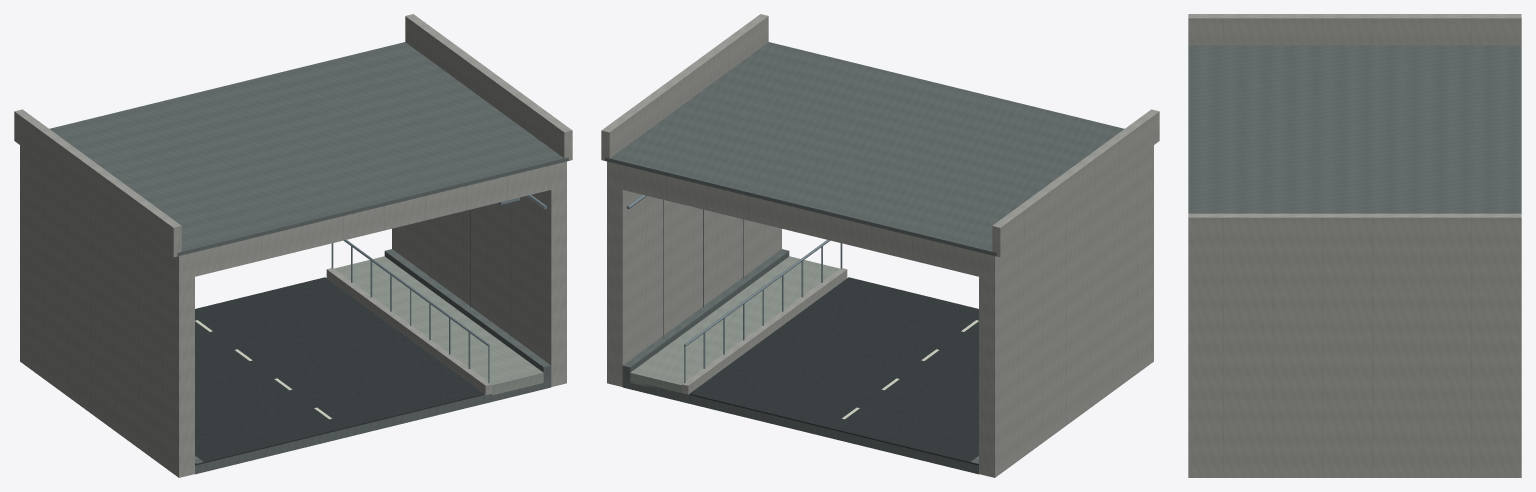
3 views of the same model, side by side, from view 1: azimuth 30°, elevation 25°; view 2: azimuth 150°, elevation 25°; view 3: azimuth 270°, elevation 25° (orthographic). The views are drawn at different scales.
Parts seen in each view (by area): view 1: VIS_Roof_Waterproof_Cap, VIS_Left_Loadbearing_Wall, VIS_Continuous_Asphalt, VIS_Right_Loadbearing_Wall, VIS_Roof_Transfer_Slab, VIS_Deck_Edge_Parapets, VIS_Maintenance_Footway, VIS_Structural_Roadbed, VIS_Footway_Kerb, VIS_Wall_Base_Upstand, VIS_Footway_Guard_Posts; view 2: VIS_Roof_Waterproof_Cap, VIS_Left_Loadbearing_Wall, VIS_Continuous_Asphalt, VIS_Right_Loadbearing_Wall, VIS_Roof_Transfer_Slab, VIS_Deck_Edge_Parapets, VIS_Maintenance_Footway, VIS_Structural_Roadbed, VIS_Footway_Kerb, VIS_Wall_Base_Upstand, VIS_Footway_Guard_Posts; view 3: VIS_Right_Loadbearing_Wall, VIS_Roof_Waterproof_Cap, VIS_Deck_Edge_Parapets, VIS_Roof_Transfer_Slab.
Part boxes in pixels (<box>): VIS_Roof_Waterproof_Cap: <box>49,42,568,256</box>; VIS_Left_Loadbearing_Wall: <box>20,164,194,477</box>; VIS_Continuous_Asphalt: <box>195,277,484,465</box>; VIS_Right_Loadbearing_Wall: <box>392,186,566,386</box>; VIS_Roof_Transfer_Slab: <box>20,145,566,280</box>; VIS_Deck_Edge_Parapets: <box>14,14,572,257</box>; VIS_Maintenance_Footway: <box>334,256,543,395</box>; VIS_Structural_Roadbed: <box>195,379,551,474</box>; VIS_Footway_Kerb: <box>326,268,491,394</box>; VIS_Wall_Base_Upstand: <box>384,249,551,380</box>; VIS_Footway_Guard_Posts: <box>331,243,489,383</box>; VIS_Roof_Waterproof_Cap: <box>605,42,1124,256</box>; VIS_Left_Loadbearing_Wall: <box>979,164,1153,477</box>; VIS_Continuous_Asphalt: <box>689,277,978,465</box>; VIS_Right_Loadbearing_Wall: <box>607,186,781,386</box>; VIS_Roof_Transfer_Slab: <box>607,145,1153,280</box>; VIS_Deck_Edge_Parapets: <box>601,14,1159,257</box>; VIS_Maintenance_Footway: <box>630,256,839,392</box>; VIS_Structural_Roadbed: <box>622,379,978,474</box>; VIS_Footway_Kerb: <box>682,268,847,394</box>; VIS_Wall_Base_Upstand: <box>622,249,789,380</box>; VIS_Footway_Guard_Posts: <box>684,243,842,383</box>; VIS_Right_Loadbearing_Wall: <box>1188,271,1521,477</box>; VIS_Roof_Waterproof_Cap: <box>1188,45,1521,213</box>; VIS_Deck_Edge_Parapets: <box>1188,14,1521,248</box>; VIS_Roof_Transfer_Slab: <box>1188,248,1521,271</box>.
Size of the model in its own units: 11.58 by 6.98 by 8.
Materials: 7 (7 with a texture image).
